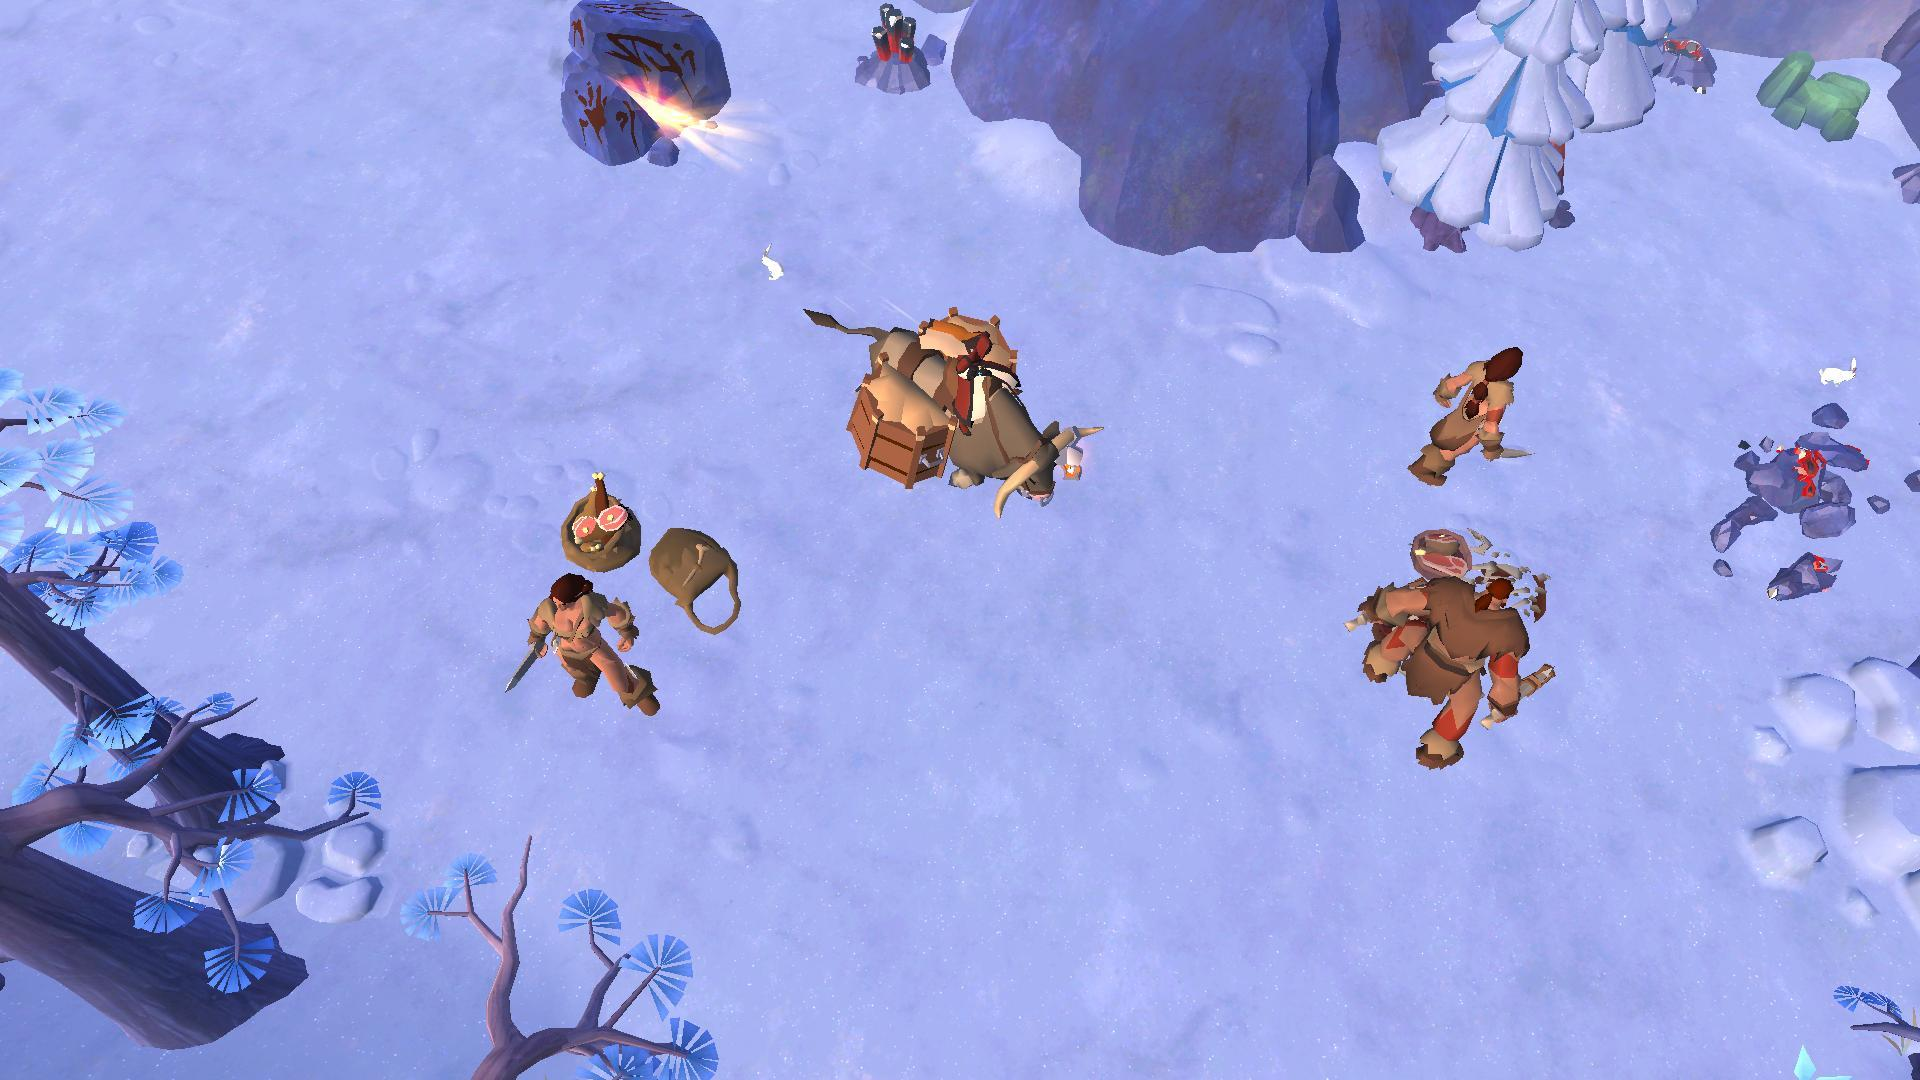enemy_factionKeeper: (1358, 568, 1552, 782), (521, 576, 665, 721), (1399, 340, 1532, 483)
ore_t5: (869, 0, 926, 69)
rock_t3: (1743, 61, 1886, 141)
